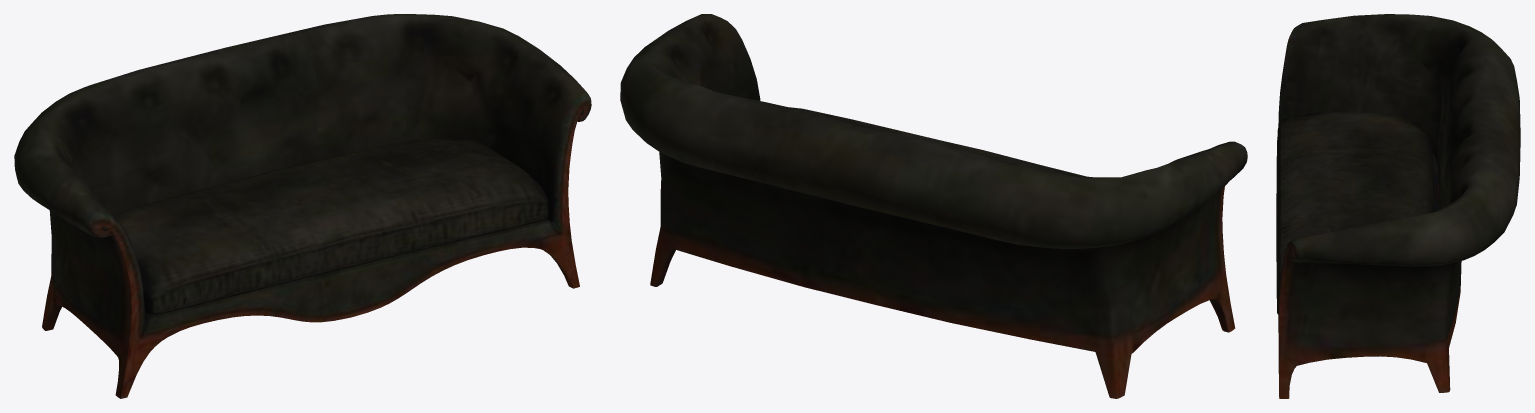
The model's file is sofa_02.glb.
The picture shows the model from 3 angles, left to right: view 1: azimuth 30°, elevation 25°; view 2: azimuth 150°, elevation 25°; view 3: azimuth 270°, elevation 25°; orthographic projection. The views are drawn at different scales.
Parts seen in each view (by area): view 1: sofa_02_Base, sofa_02_Seat; view 2: sofa_02_Base, sofa_02_Seat; view 3: sofa_02_Base, sofa_02_Seat.
Boxes of the visible parts, x1,y1,x2,y2 form: sofa_02_Base: (14, 14, 591, 398); sofa_02_Seat: (115, 139, 549, 314); sofa_02_Base: (620, 14, 1247, 398); sofa_02_Seat: (789, 107, 1086, 176); sofa_02_Base: (1278, 14, 1520, 398); sofa_02_Seat: (1276, 112, 1433, 314).
Bounding box in the file's own units: 1.81 × 0.7095 × 0.8178.
Materials: 1 (1 with a texture image).
